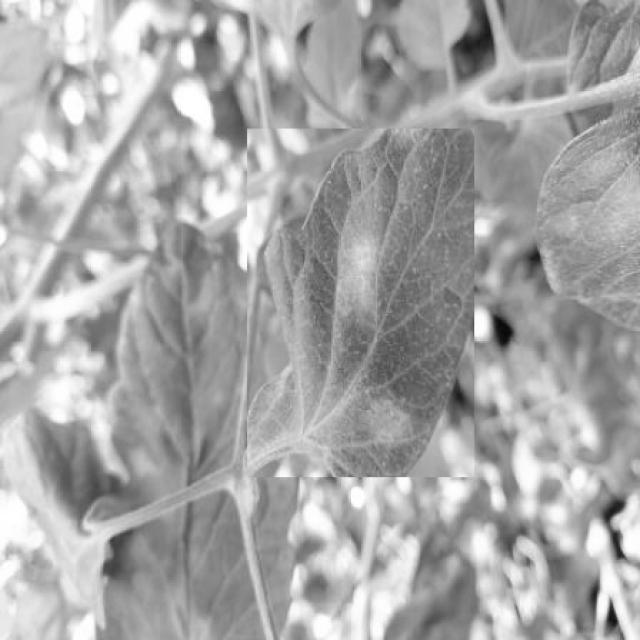Leaf Mold: (247, 129, 474, 478)
